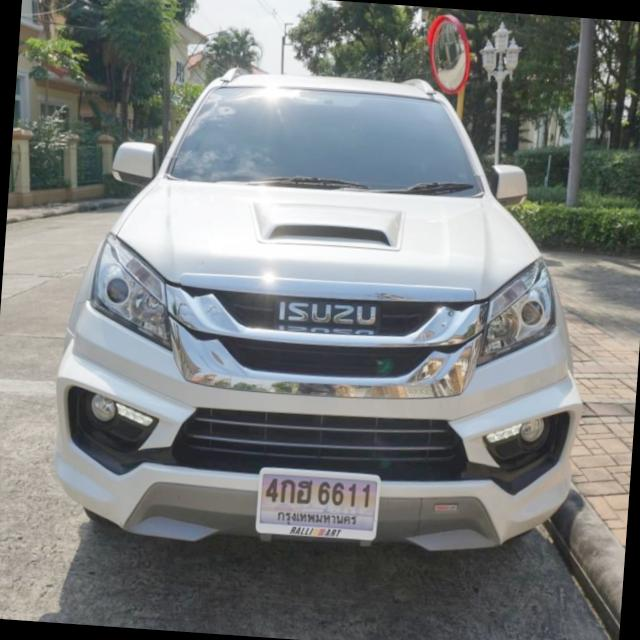license_plate: (254, 459, 384, 544)
